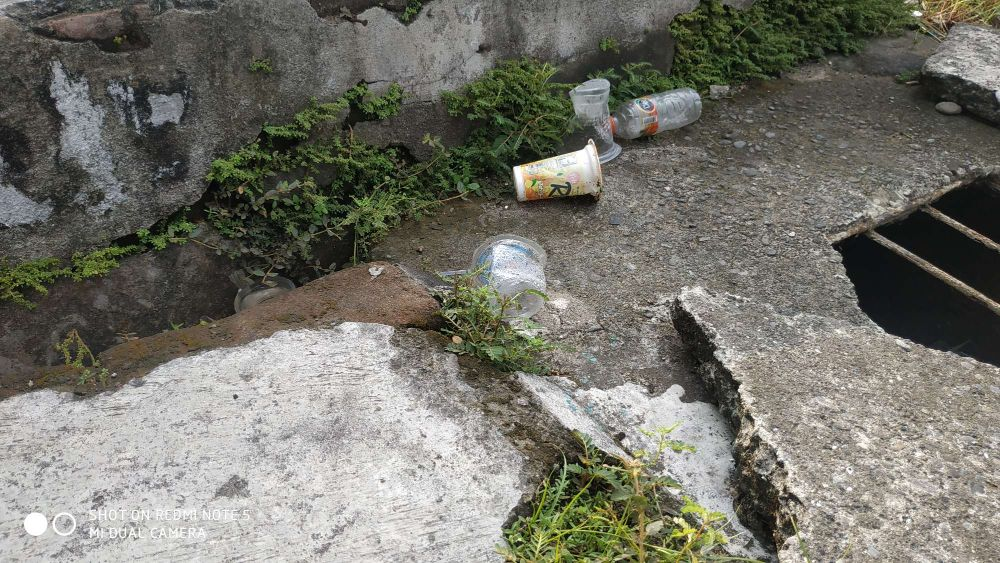botol: (605, 80, 722, 138)
